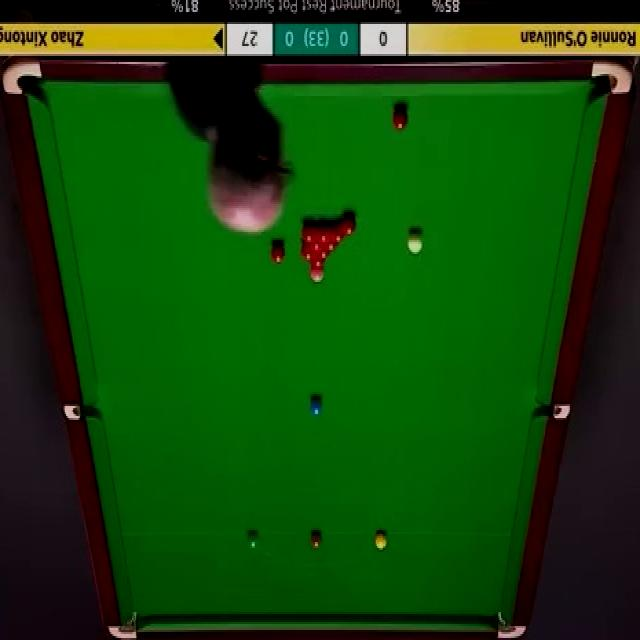blue-ball: (310, 394, 325, 418)
brown-ball: (310, 530, 323, 550)
green-ball: (247, 530, 260, 551)
pink-ball: (308, 263, 328, 291)
red-ball: (268, 241, 286, 264), (392, 105, 409, 128), (341, 211, 356, 237), (329, 222, 344, 244), (301, 241, 318, 260), (316, 224, 331, 245), (302, 223, 317, 243), (314, 246, 332, 260), (323, 240, 338, 252), (309, 258, 325, 269)
white-ball: (406, 234, 424, 256)
yellow-ball: (375, 530, 387, 550)
